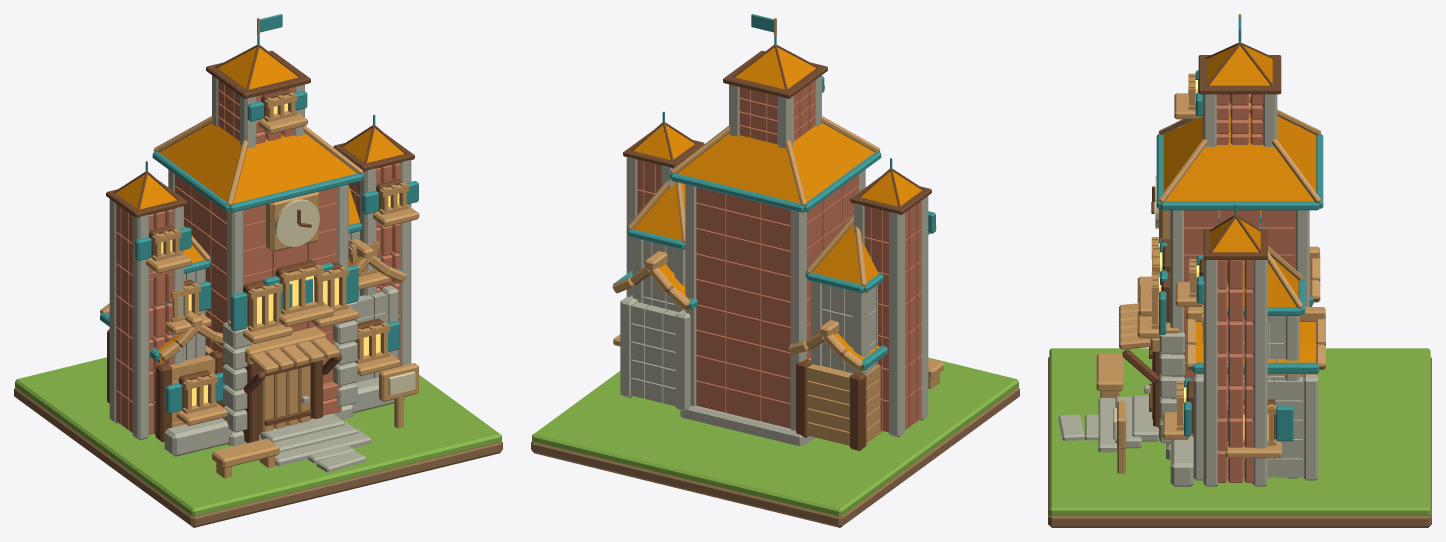
File: town_hall_l09_active_LOD0.glb
The picture shows the model from 3 angles, left to right: view 1: azimuth 30°, elevation 25°; view 2: azimuth 150°, elevation 25°; view 3: azimuth 270°, elevation 25°; orthographic projection. The views are drawn at different scales.
Visible parts, largest first — view 1: town_hall_l09_active_grass_tile, town_hall_l09_active_earth_tile, town_hall_l09_active_corner_reinforcement.024, town_hall_l09_active_hip_roof_shingle.002, town_hall_l09_active_hip_roof_shingle.011, town_hall_l09_active_corner_reinforcement.030, town_hall_l09_active_central_spire_roof_shingle, town_hall_l09_active_stone_foundation_course, town_hall_l09_active_corner_reinforcement.025, town_hall_l09_active_hip_roof_shingle.001, town_hall_l09_active_clock_face, town_hall_l09_active_corner_reinforcement (+38 smaller); view 2: town_hall_l09_active_grass_tile, town_hall_l09_active_earth_tile, town_hall_l09_active_corner_reinforcement.025, town_hall_l09_active_hip_roof_shingle.008, town_hall_l09_active_corner_reinforcement.001, town_hall_l09_active_hip_roof_shingle.011, town_hall_l09_active_corner_reinforcement.003, town_hall_l09_active_foundation, town_hall_l09_active_central_spire_roof_shingle, town_hall_l09_active_corner_reinforcement.024, town_hall_l09_active_hip_roof_shingle.007, town_hall_l09_active_corner_reinforcement.009 (+50 smaller); view 3: town_hall_l09_active_grass_tile, town_hall_l09_active_earth_tile, town_hall_l09_active_hip_roof_shingle.005, town_hall_l09_active_corner_reinforcement.030, town_hall_l09_active_corner_reinforcement.031, town_hall_l09_active_hip_roof_shingle.004, town_hall_l09_active_central_spire_roof_shingle, town_hall_l09_active_corner_reinforcement.011, town_hall_l09_active_eave_trim.001, town_hall_l09_active_corner_reinforcement.002, town_hall_l09_active_central_spire_cornice, town_hall_l09_active_right_spire_roof_shingle (+46 smaller).
Boxes of the visible parts, x1=… form: town_hall_l09_active_grass_tile: x1=15, y1=357, x2=501, y2=516; town_hall_l09_active_earth_tile: x1=14, y1=387, x2=502, y2=527; town_hall_l09_active_corner_reinforcement.024: x1=132, y1=215, x2=149, y2=440; town_hall_l09_active_hip_roof_shingle.002: x1=229, y1=150, x2=356, y2=212; town_hall_l09_active_hip_roof_shingle.011: x1=159, y1=135, x2=235, y2=211; town_hall_l09_active_corner_reinforcement.030: x1=398, y1=160, x2=411, y2=365; town_hall_l09_active_central_spire_roof_shingle: x1=217, y1=47, x2=298, y2=89; town_hall_l09_active_stone_foundation_course: x1=164, y1=418, x2=232, y2=456; town_hall_l09_active_corner_reinforcement.025: x1=109, y1=199, x2=118, y2=423; town_hall_l09_active_hip_roof_shingle.001: x1=241, y1=133, x2=326, y2=170; town_hall_l09_active_clock_face: x1=275, y1=199, x2=319, y2=246; town_hall_l09_active_corner_reinforcement: x1=227, y1=210, x2=243, y2=322; town_hall_l09_active_grass_tile: x1=532, y1=357, x2=1018, y2=516; town_hall_l09_active_earth_tile: x1=531, y1=387, x2=1019, y2=527; town_hall_l09_active_corner_reinforcement.025: x1=888, y1=212, x2=905, y2=437; town_hall_l09_active_hip_roof_shingle.008: x1=677, y1=150, x2=804, y2=212; town_hall_l09_active_corner_reinforcement.001: x1=790, y1=210, x2=806, y2=430; town_hall_l09_active_hip_roof_shingle.011: x1=798, y1=135, x2=874, y2=211; town_hall_l09_active_corner_reinforcement.003: x1=685, y1=184, x2=697, y2=406; town_hall_l09_active_foundation: x1=680, y1=405, x2=815, y2=446; town_hall_l09_active_central_spire_roof_shingle: x1=735, y1=47, x2=816, y2=89; town_hall_l09_active_corner_reinforcement.024: x1=919, y1=196, x2=928, y2=420; town_hall_l09_active_hip_roof_shingle.007: x1=707, y1=133, x2=792, y2=170; town_hall_l09_active_corner_reinforcement.009: x1=675, y1=310, x2=690, y2=411; town_hall_l09_active_grass_tile: x1=1049, y1=348, x2=1430, y2=515; town_hall_l09_active_earth_tile: x1=1048, y1=357, x2=1431, y2=527; town_hall_l09_active_hip_roof_shingle.005: x1=1160, y1=169, x2=1319, y2=209; town_hall_l09_active_corner_reinforcement.030: x1=1203, y1=259, x2=1218, y2=486; town_hall_l09_active_corner_reinforcement.031: x1=1252, y1=259, x2=1267, y2=486; town_hall_l09_active_hip_roof_shingle.004: x1=1189, y1=133, x2=1290, y2=169; town_hall_l09_active_central_spire_roof_shingle: x1=1207, y1=46, x2=1272, y2=85; town_hall_l09_active_corner_reinforcement.011: x1=1303, y1=374, x2=1318, y2=480; town_hall_l09_active_eave_trim.001: x1=1160, y1=201, x2=1319, y2=210; town_hall_l09_active_corner_reinforcement.002: x1=1170, y1=210, x2=1184, y2=443; town_hall_l09_active_central_spire_cornice: x1=1198, y1=55, x2=1281, y2=94; town_hall_l09_active_right_spire_roof_shingle: x1=1210, y1=218, x2=1260, y2=252.
Bounding box in the file's own units: 3.6 × 4.49 × 3.6.
